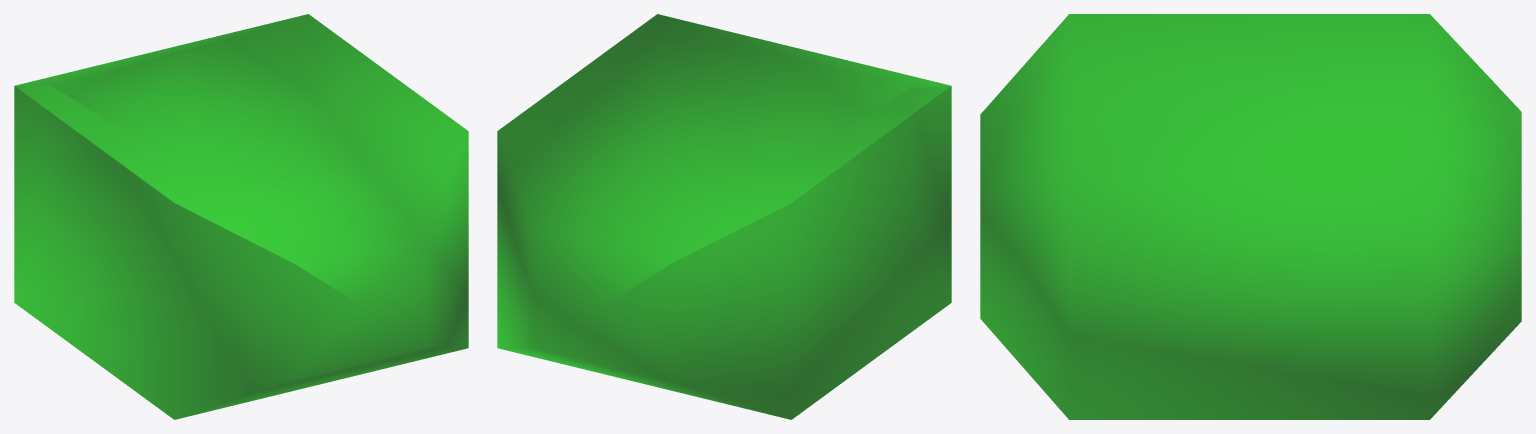
File: greenGem.fbx
The picture shows the model from 3 angles, left to right: view 1: azimuth 30°, elevation 25°; view 2: azimuth 150°, elevation 25°; view 3: azimuth 270°, elevation 25°; orthographic projection. The views are drawn at different scales.
Parts seen in each view (by area): view 1: mesh01; view 2: mesh01; view 3: mesh01.
Part boxes in pixels (left/top/right/bottom): mesh01: left=14, top=14, right=468, bottom=419; mesh01: left=497, top=14, right=951, bottom=419; mesh01: left=980, top=14, right=1521, bottom=419.
Bounding box in the file's own units: 21.1 × 14.87 × 29.84.
